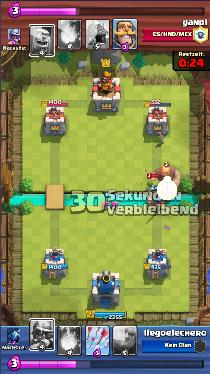ally_archer: (109, 202, 119, 213), (101, 201, 109, 211)
ally_goblin_cage: (147, 178, 163, 191)
ally_knight: (151, 189, 166, 204)
enemy_giant: (151, 167, 181, 186)
